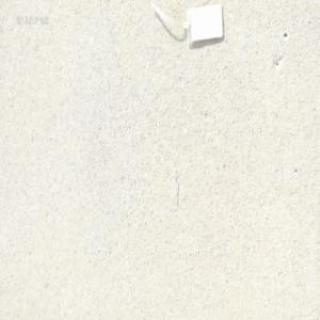LuggageTagtrack_idkeyframe: (146, 1, 223, 49)
